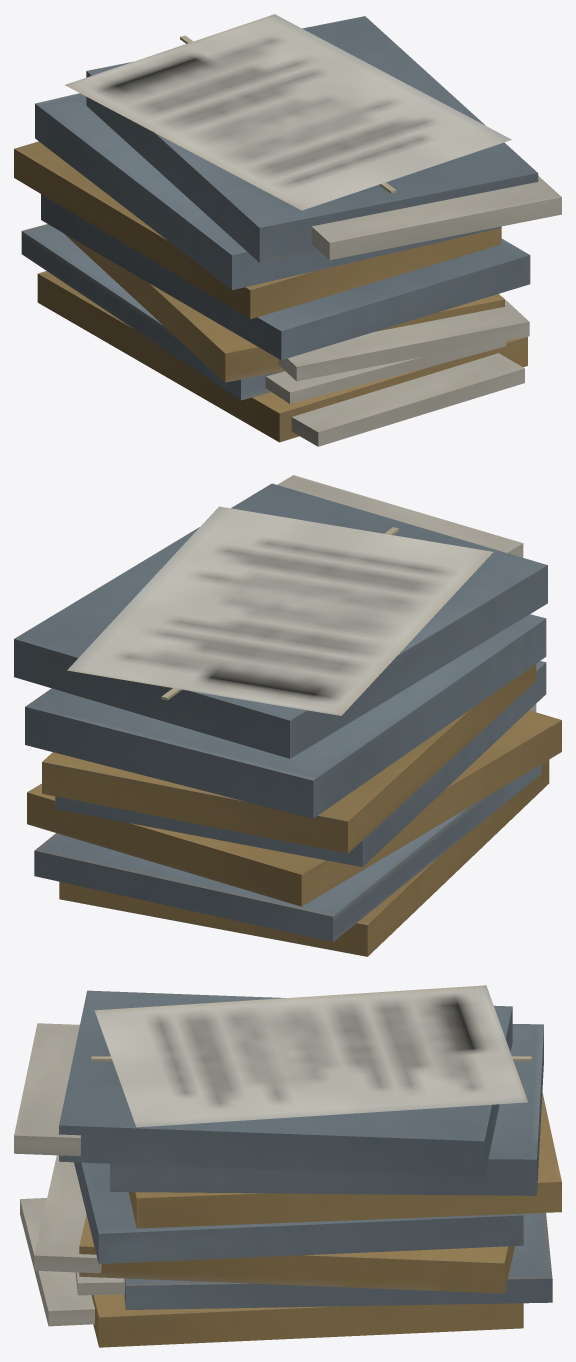
The model's file is Document_Stack.fbx.
3 views of the same model, one above another, from view 1: azimuth 30°, elevation 25°; view 2: azimuth 150°, elevation 25°; view 3: azimuth 270°, elevation 25° (orthographic). The views are drawn at different scales.
Parts seen in each view (by area): view 1: стопка документов; view 2: стопка документов; view 3: стопка документов.
Part boxes in pixels (x1,y1,x2,y2): стопка документов: (14, 14, 561, 446); стопка документов: (14, 475, 561, 956); стопка документов: (14, 985, 561, 1347).
Bounding box in the file's own units: 0.2956 × 0.183 × 0.4106.
1 material, 1 textured.
